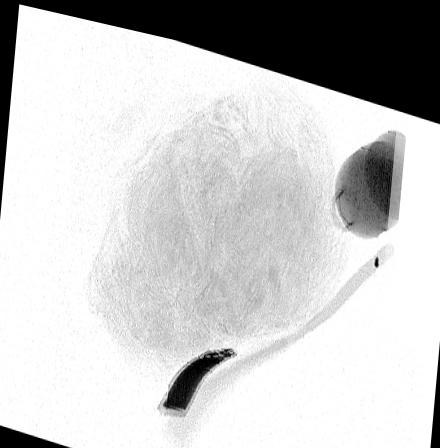Powerbank: (155, 333, 238, 409)
